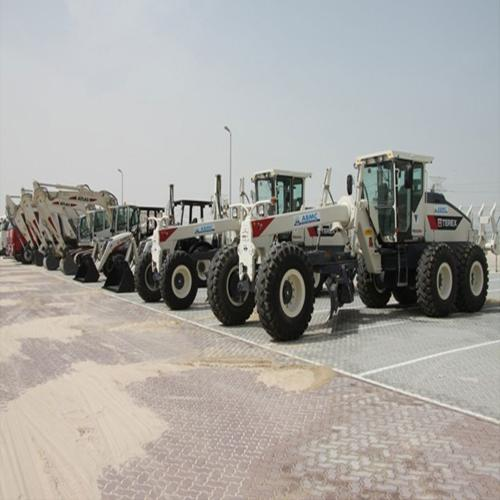con_eq: (240, 141, 492, 345), (154, 164, 307, 310), (105, 198, 206, 293), (32, 182, 120, 277), (76, 206, 157, 283)
